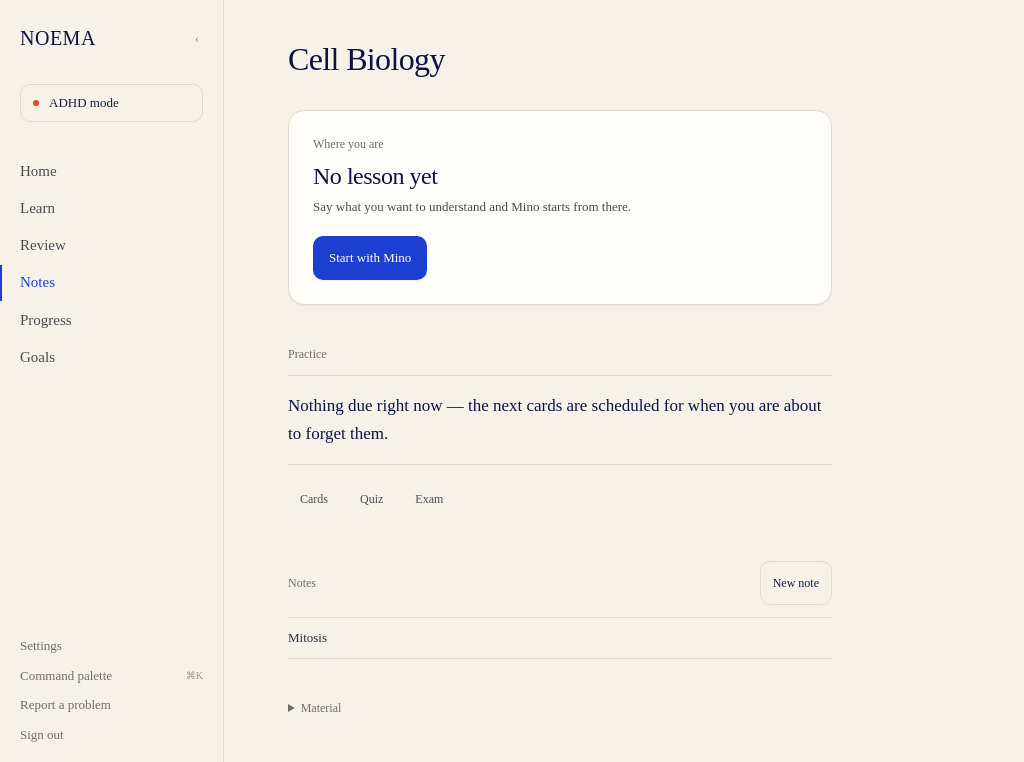
Test: NotebookPage addNote › adds the note to the list when creation succeeds
Check: the text "Mitosis" is shown, box [288,628,327,648]
Click the button "New note" at (796, 583), box [760,561,832,605]
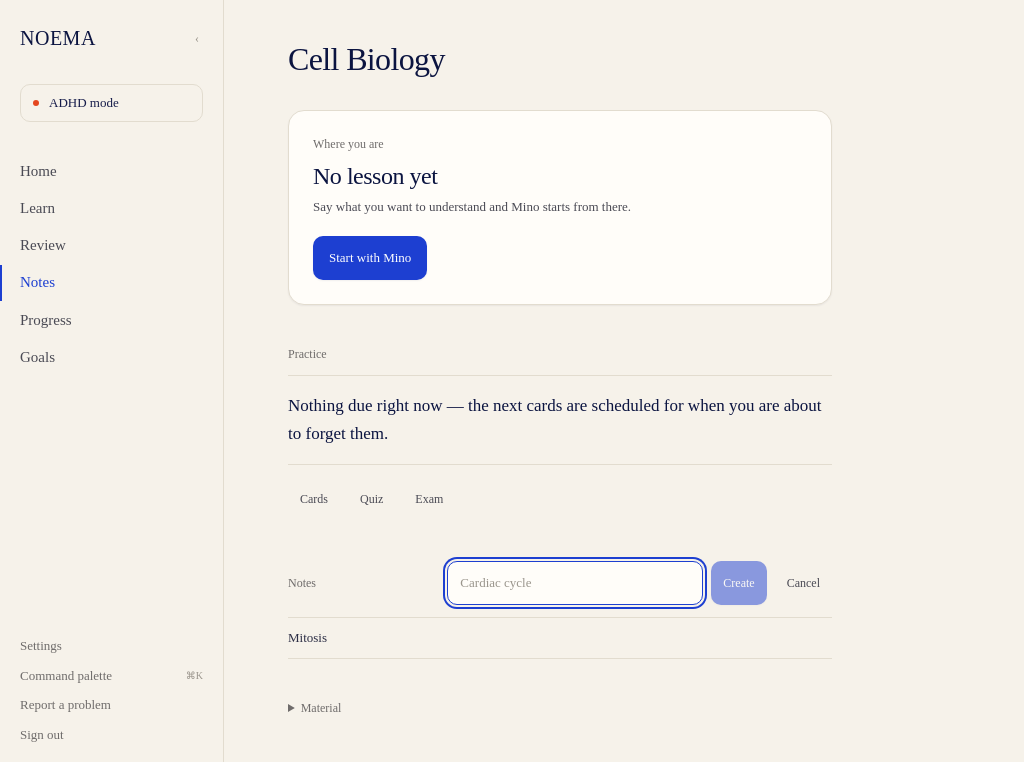
Type "Meiosis" into the field named "Note title" at (575, 583), box [447,561,703,605]
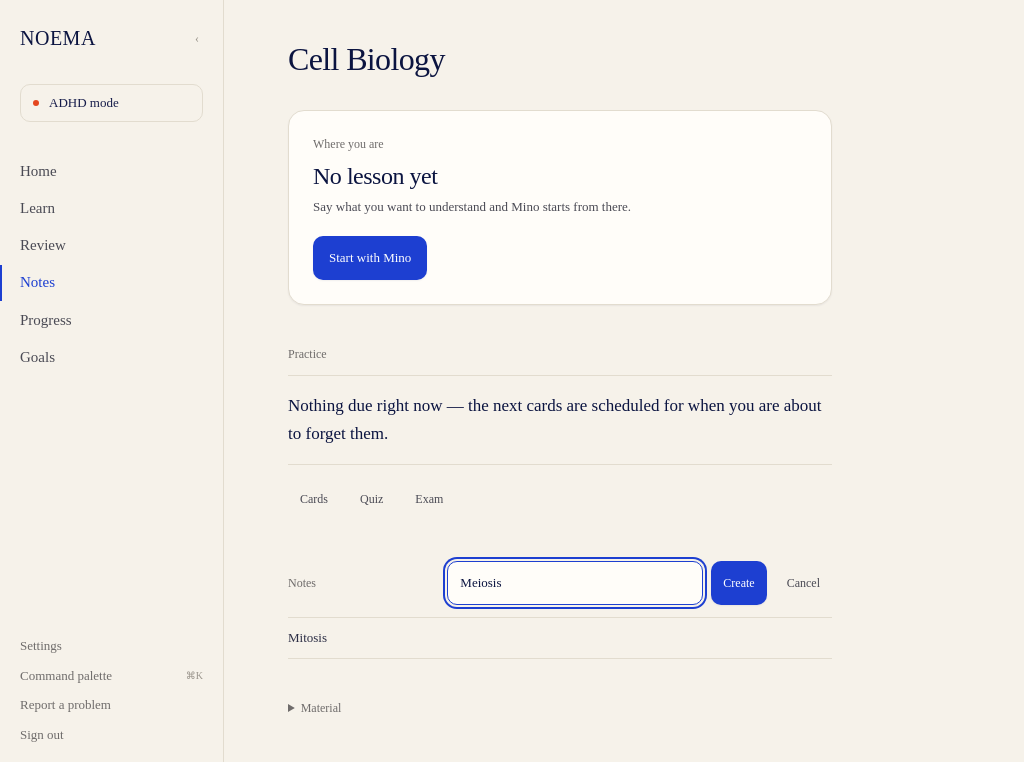
Click the button "Create" at (739, 583), box [711,561,767,605]
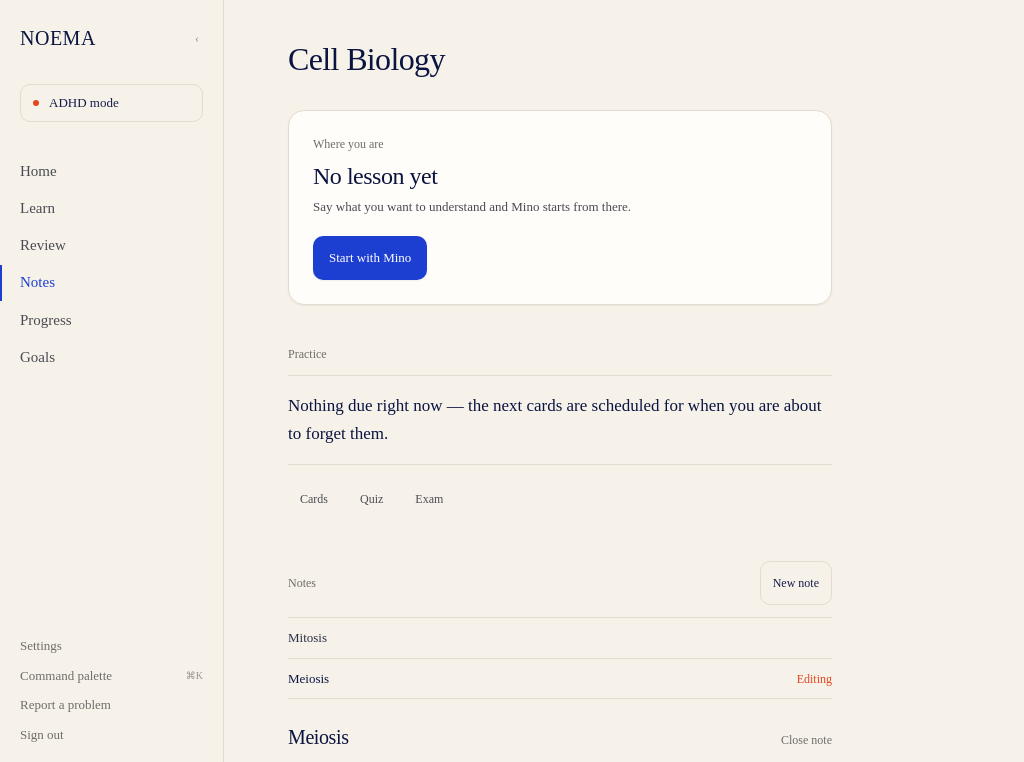
Check: the text "Meiosis" is shown, box [288,669,329,688]
